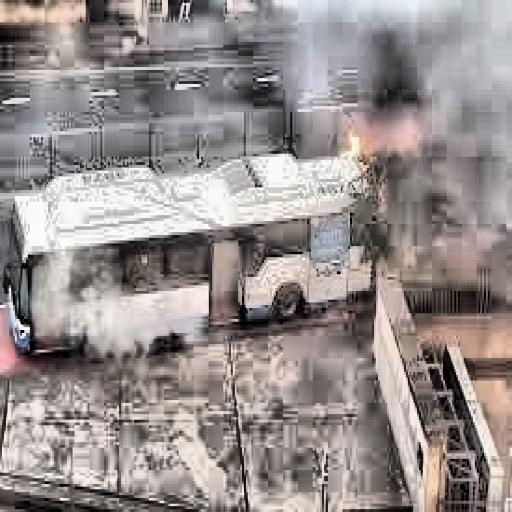fire: (333, 112, 378, 187)
